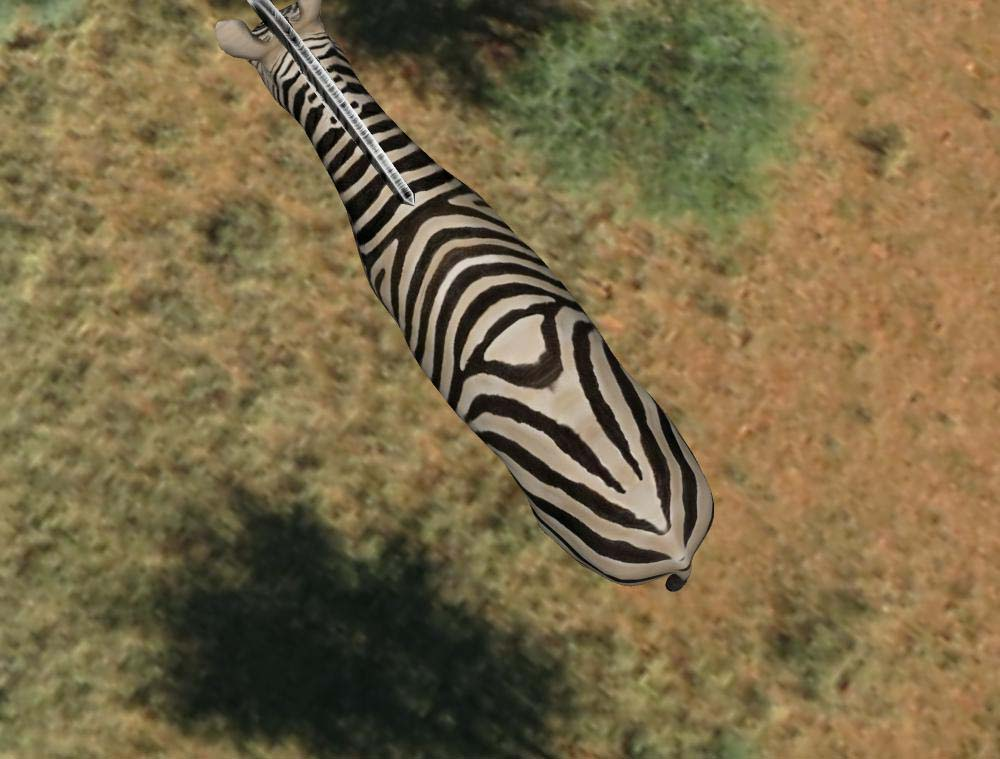zebra: (215, 1, 720, 605)
